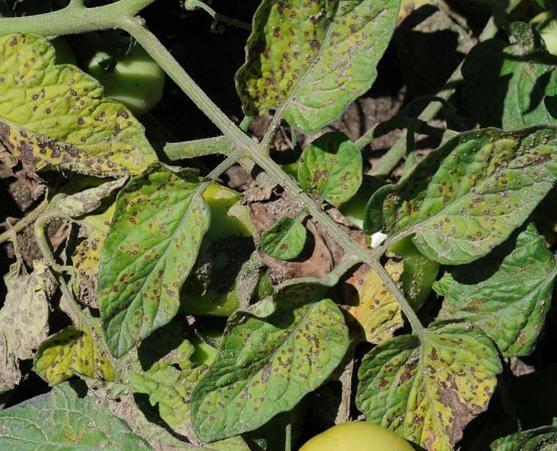Tomato Septoria leaf spot: (93, 161, 225, 360), (0, 27, 158, 191), (177, 285, 349, 432), (231, 0, 413, 134), (356, 295, 505, 451), (398, 121, 557, 264)
